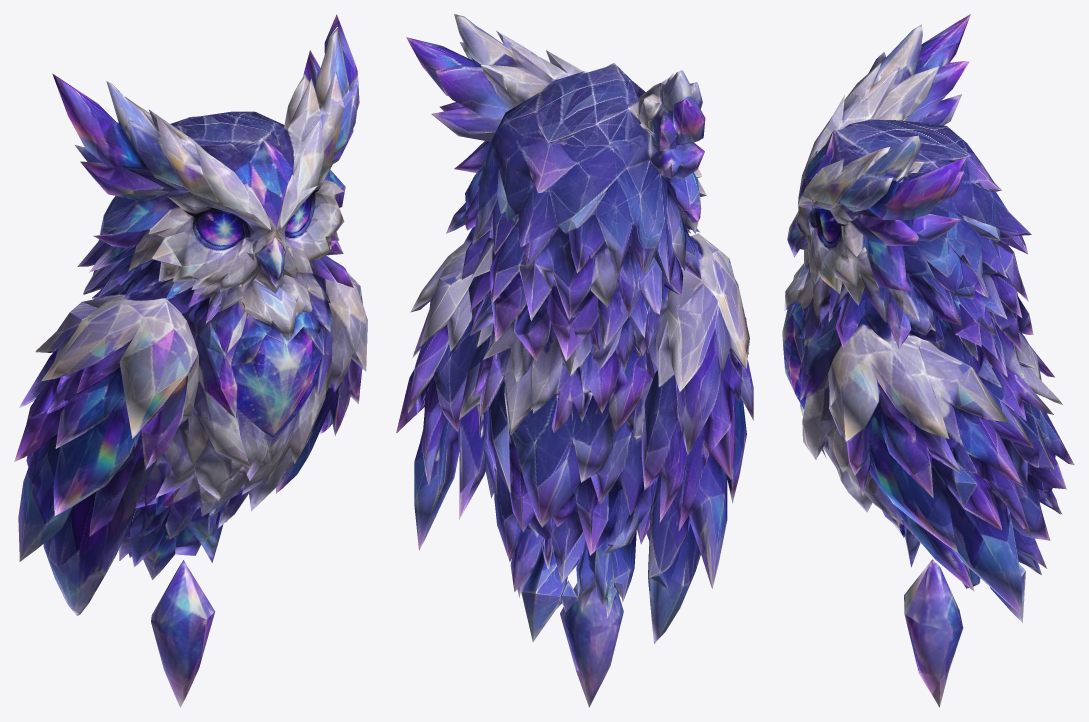
The model's file is fam_owl.glb.
3 renders of one model, left to right at view 1: azimuth 30°, elevation 25°; view 2: azimuth 150°, elevation 25°; view 3: azimuth 270°, elevation 25°, orthographic.
Bounding box in the file's own units: 1.05 × 2 × 0.8238.
Materials: 1 (1 with a texture image).
